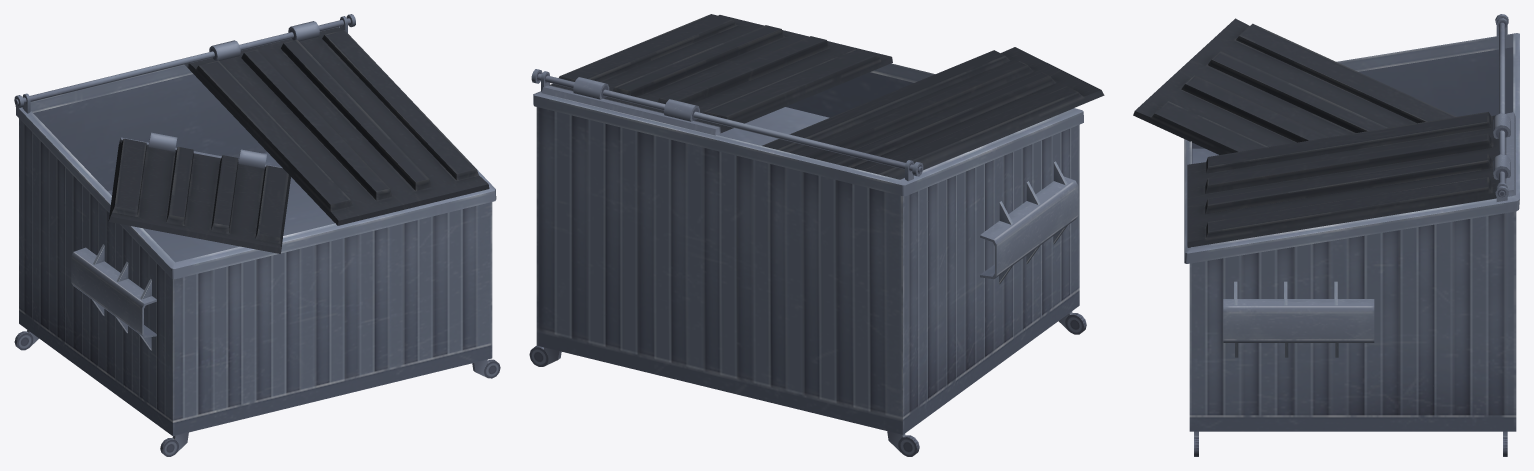
The model's file is Container1.fbx.
The picture shows the model from 3 angles, left to right: view 1: azimuth 30°, elevation 25°; view 2: azimuth 150°, elevation 25°; view 3: azimuth 270°, elevation 25°; orthographic projection. The views are drawn at different scales.
Parts seen in each view (by area): view 1: bin_1_Mesh; view 2: bin_1_Mesh; view 3: bin_1_Mesh.
Boxes of the visible parts, bbox=[...] form: bin_1_Mesh: bbox=[14, 14, 500, 456]; bin_1_Mesh: bbox=[529, 14, 1104, 456]; bin_1_Mesh: bbox=[1133, 14, 1519, 456].
Bounding box in the file's own units: 240 × 157 × 201.
